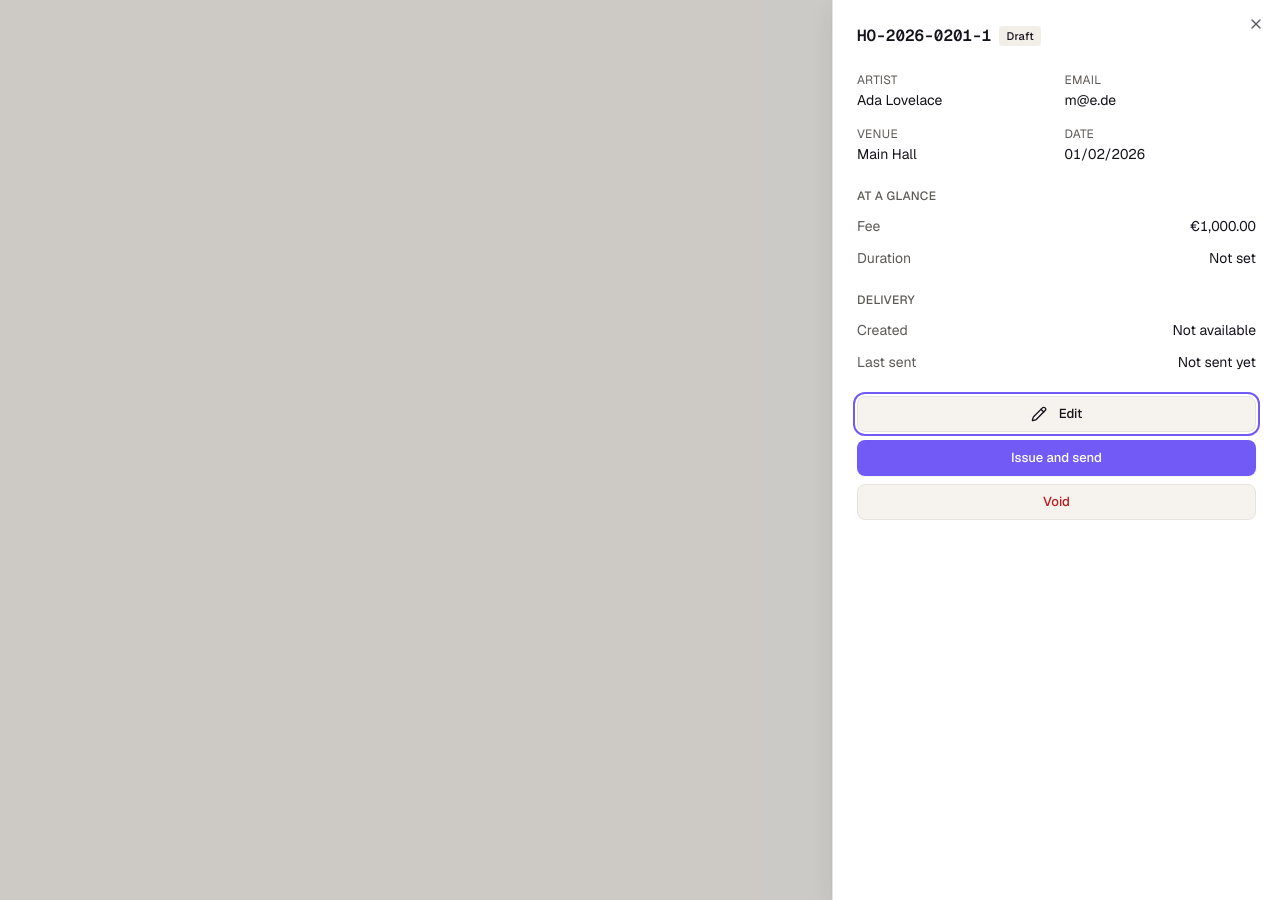
Test: OrderSlideOver issue preflight › opens the preflight sheet instead of firing the mutation directly, and issues once confirmed clean
Later steps or results of the test are not shown.
Click the button "Issue and send": coordinates (1056, 458) [857,440,1256,476]
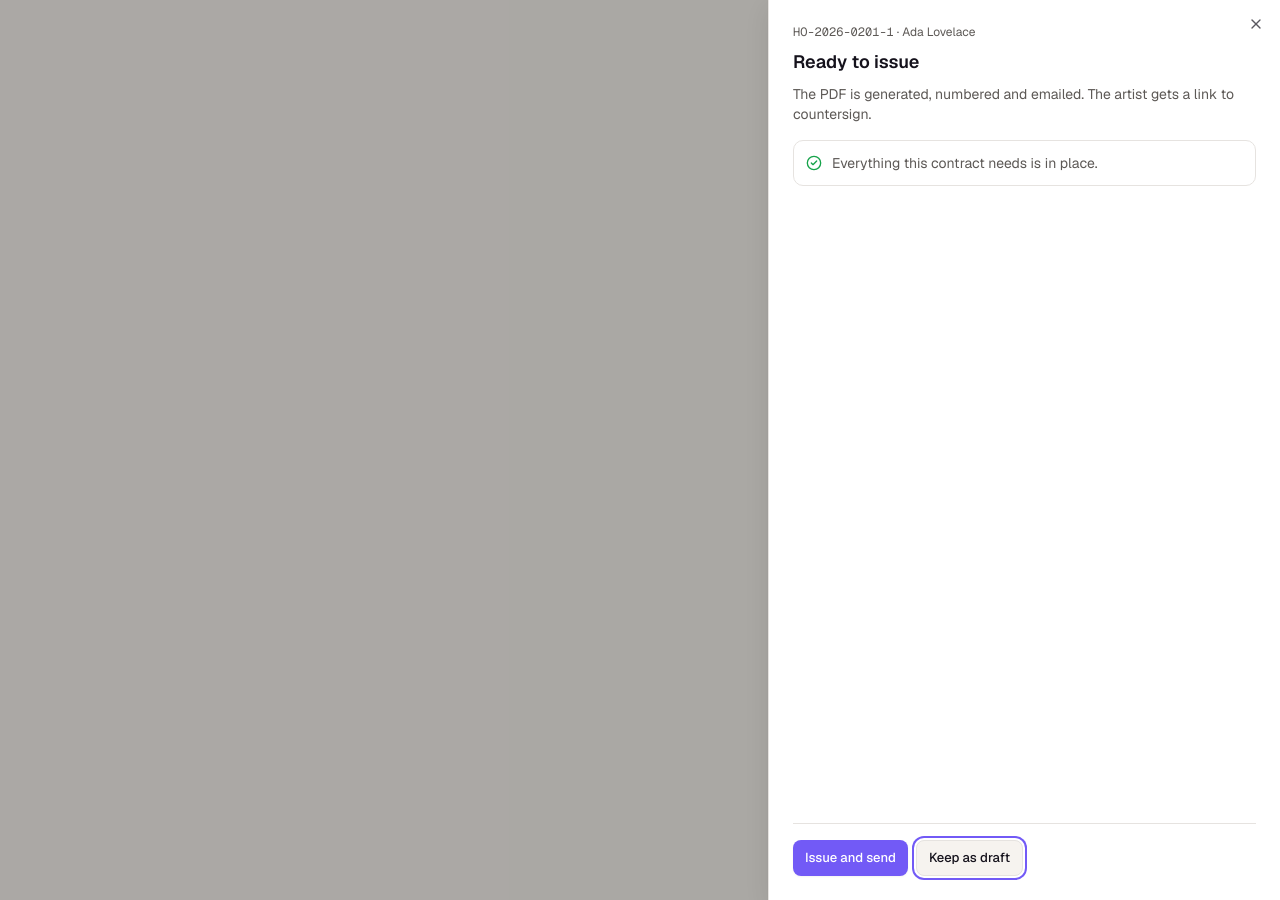
Expected: the heading "Ready to issue" is shown, [793,50,920,73]
